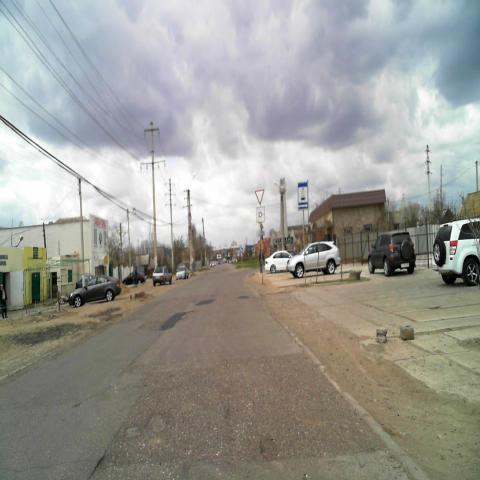8_13_1: (255, 206, 265, 222)
